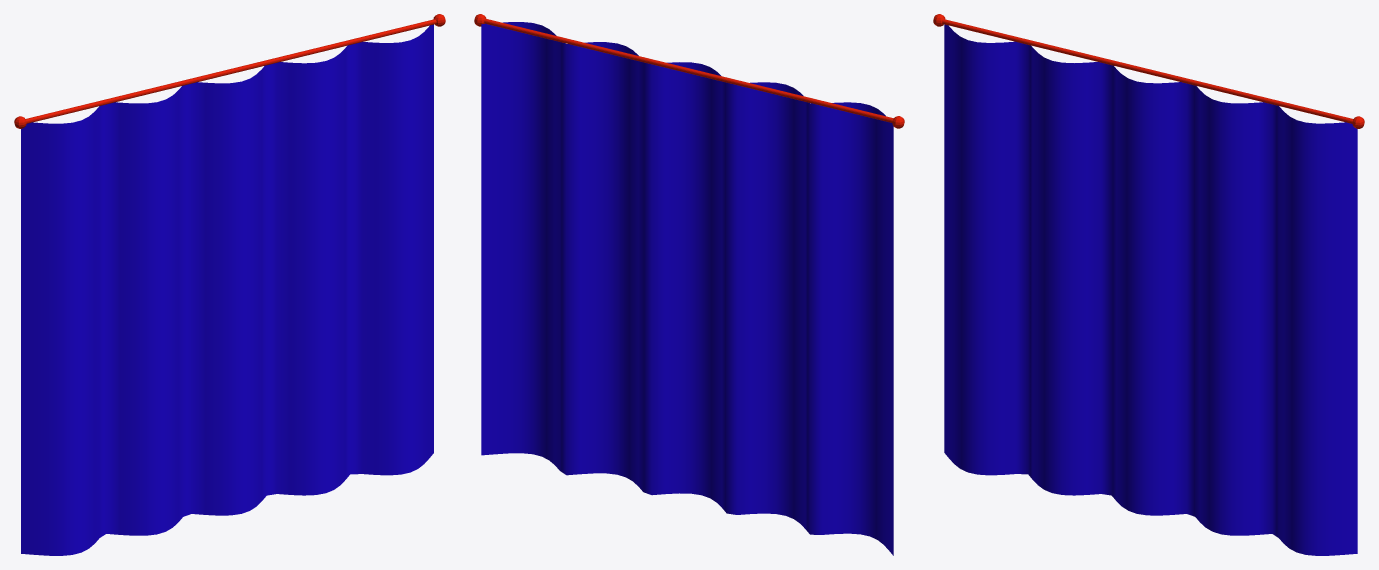
Rendered from Rideau.fbx.
The picture shows the model from 3 angles, left to right: view 1: azimuth 30°, elevation 25°; view 2: azimuth 150°, elevation 25°; view 3: azimuth 330°, elevation 25°; orthographic projection.
Parts seen in each view (by area): view 1: Rideau.001, Tringle.001; view 2: Rideau.001, Tringle.001; view 3: Rideau.001, Tringle.001.
Boxes of the visible parts, x1=… form: Rideau.001: x1=21, y1=24, x2=433, y2=555; Tringle.001: x1=14, y1=14, x2=445, y2=128; Rideau.001: x1=481, y1=22, x2=893, y2=555; Tringle.001: x1=474, y1=14, x2=904, y2=128; Rideau.001: x1=944, y1=24, x2=1357, y2=555; Tringle.001: x1=933, y1=14, x2=1364, y2=128.
Size of the model in its own units: 312 by 305 by 19.08.
